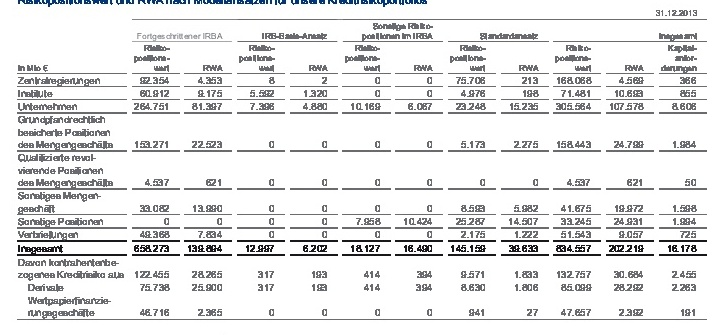table: (0, 0, 725, 335)
